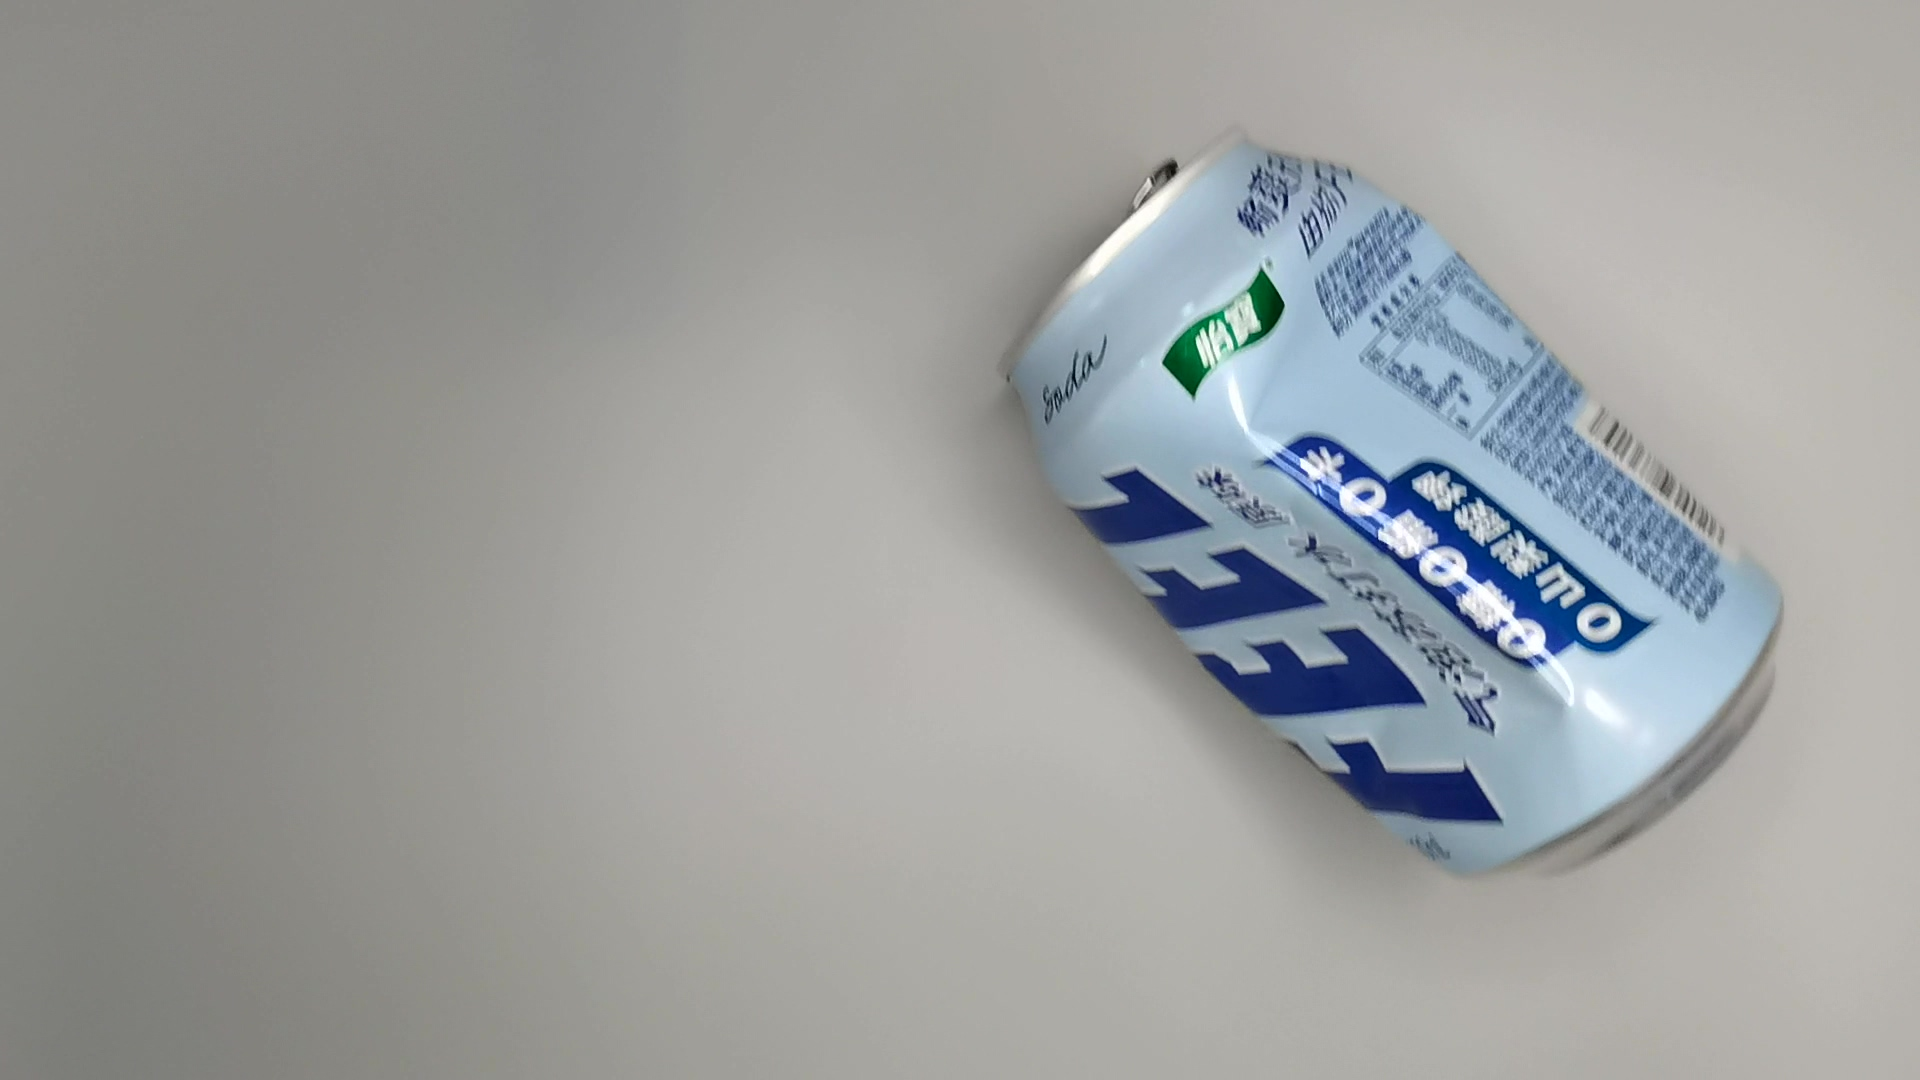can: (992, 115, 1797, 898)
